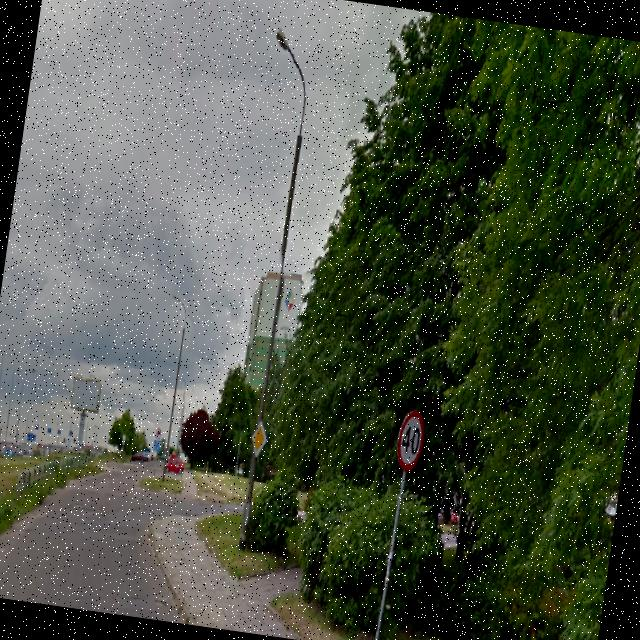Droga z pierwszenstwem: (248, 414, 270, 460)
